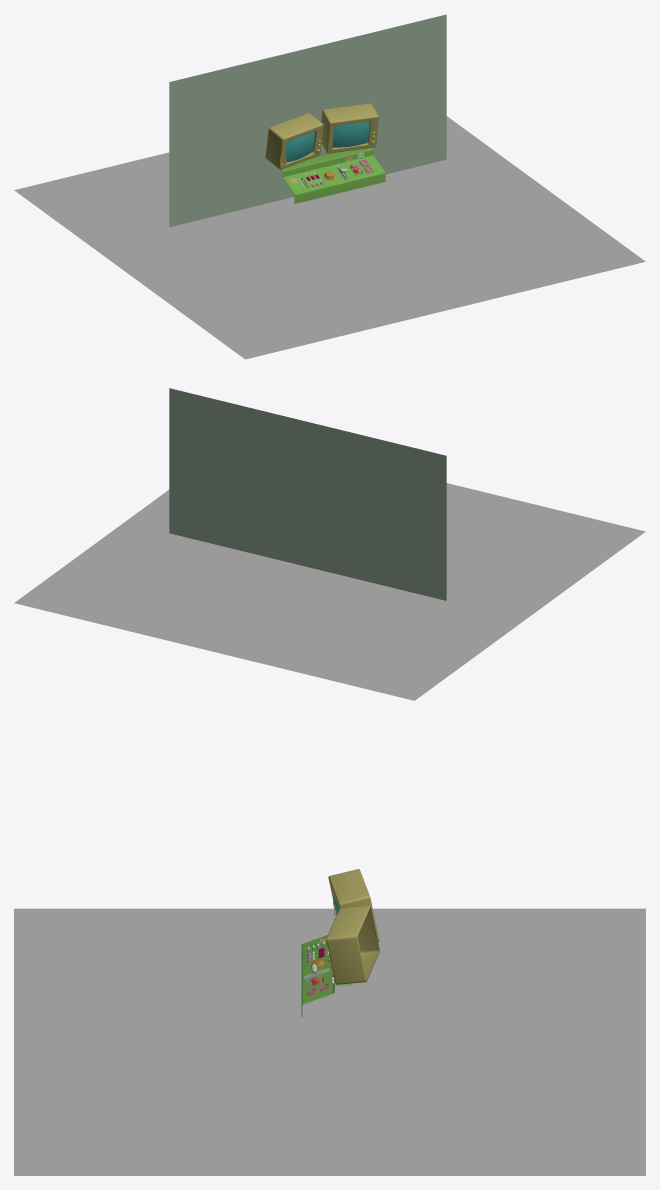
The picture shows the model from 3 angles, top to bottom: view 1: azimuth 30°, elevation 25°; view 2: azimuth 150°, elevation 25°; view 3: azimuth 270°, elevation 25°; orthographic projection. The views are drawn at different scales.
Parts seen in each view (by area): view 1: Floor, WallL, WallR, Base, MoniterLeft, MoniterRight, Glass, Glass_2; view 2: Floor, WallL, WallR; view 3: Floor, MoniterRight, Base, MoniterLeft.
Boxes of the visible parts, x1=… form: Floor: x1=14, y1=116, x2=645, y2=359; WallL: x1=169, y1=48, x2=307, y2=227; WallR: x1=308, y1=14, x2=446, y2=174; Base: x1=280, y1=148, x2=385, y2=203; MoniterLeft: x1=265, y1=113, x2=323, y2=169; MoniterRight: x1=321, y1=103, x2=378, y2=153; Glass: x1=332, y1=121, x2=369, y2=147; Glass_2: x1=285, y1=131, x2=314, y2=162; Floor: x1=14, y1=483, x2=645, y2=700; WallL: x1=308, y1=422, x2=446, y2=600; WallR: x1=169, y1=388, x2=307, y2=566; Floor: x1=14, y1=908, x2=645, y2=1175; MoniterRight: x1=326, y1=906, x2=379, y2=984; Base: x1=301, y1=935, x2=352, y2=1016; MoniterLeft: x1=328, y1=869, x2=379, y2=942.
Size of the model in its own units: 2310 by 890 by 2310.
